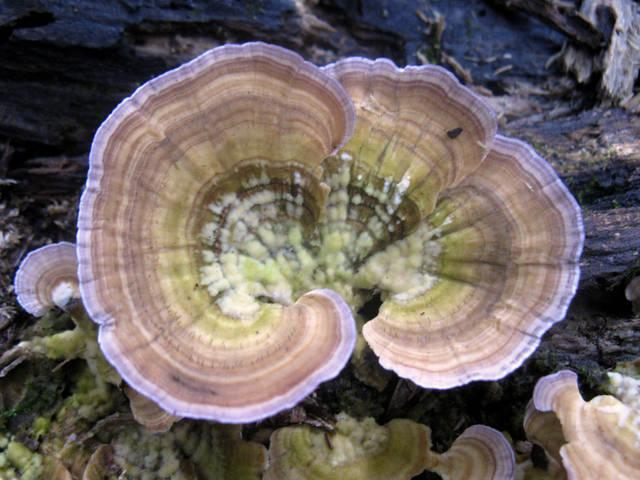Non-edible Mushroom: (14, 39, 585, 425)
